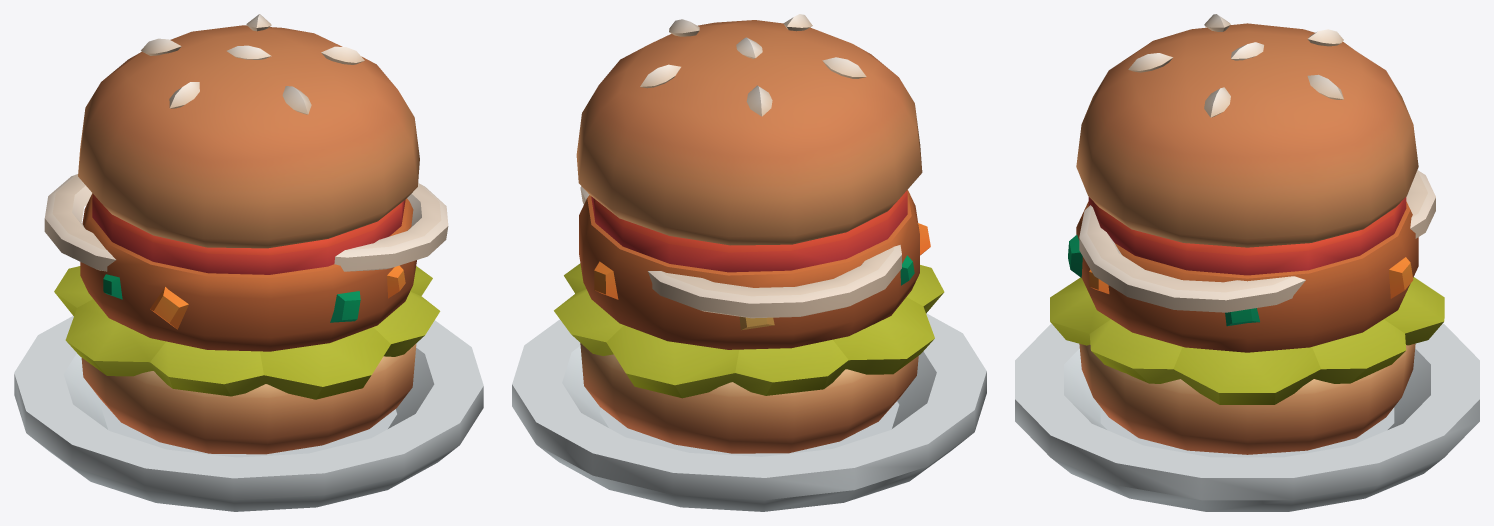
Rendered from kay-food_vegetableburger.glb.
The picture shows the model from 3 angles, left to right: view 1: azimuth 30°, elevation 25°; view 2: azimuth 150°, elevation 25°; view 3: azimuth 270°, elevation 25°; orthographic projection.
Parts seen in each view (by area): view 1: food_vegetableburger; view 2: food_vegetableburger; view 3: food_vegetableburger.
Part boxes in pixels (x1=…): food_vegetableburger: x1=14, y1=14, x2=483, y2=511; food_vegetableburger: x1=512, y1=14, x2=986, y2=511; food_vegetableburger: x1=1015, y1=14, x2=1479, y2=511.
Size of the model in its own units: 0.22 by 0.1985 by 0.22.
Materials: 1 (1 with a texture image).
